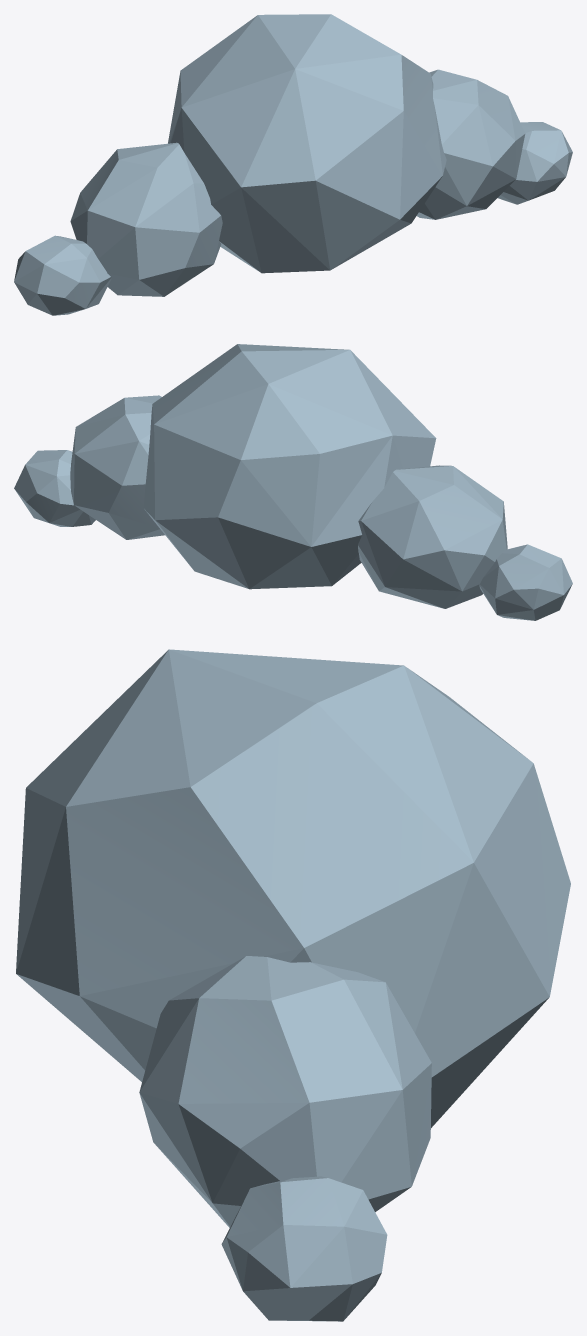
The model's file is small_cloud_4.fbx.
3 renders of one model, top to bottom at view 1: azimuth 30°, elevation 25°; view 2: azimuth 150°, elevation 25°; view 3: azimuth 270°, elevation 25°, orthographic. The views are drawn at different scales.
Parts seen in each view (by area): view 1: cloud_4; view 2: cloud_4; view 3: cloud_4.
Boxes of the visible parts, x1,y1,x2,y2 form: cloud_4: (14,14,572,315); cloud_4: (14,344,572,620); cloud_4: (16,649,570,1321).
Size of the model in its own units: 473 by 188 by 211.
